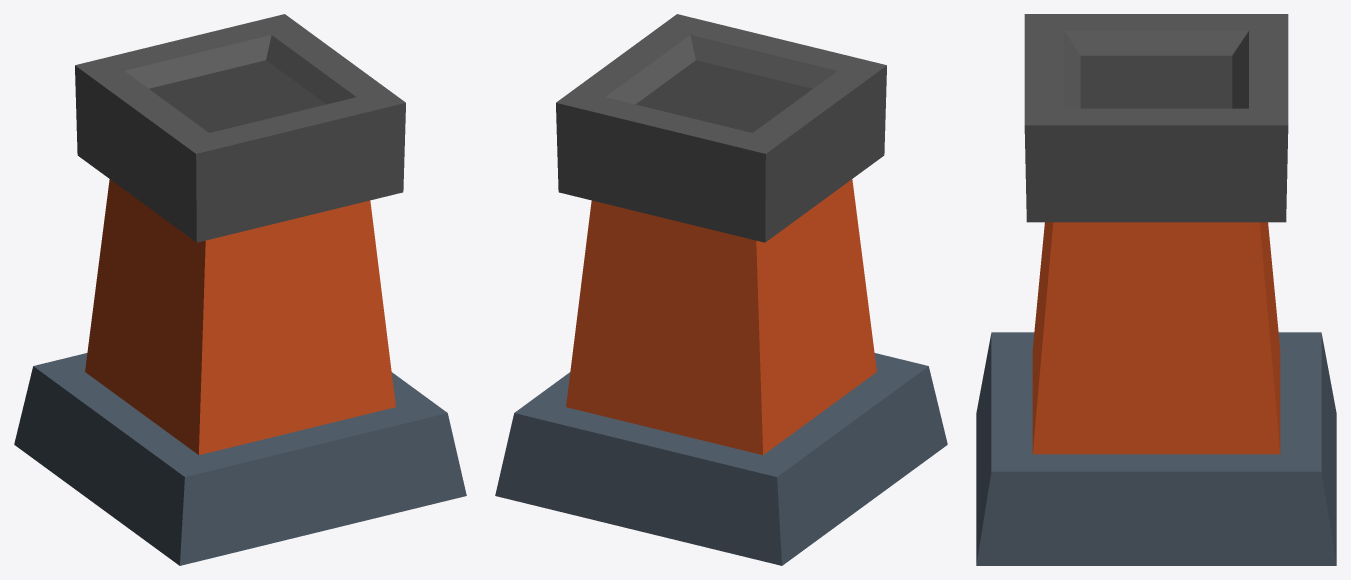
File: Chimney_3_B_2.glb
The picture shows the model from 3 angles, left to right: view 1: azimuth 30°, elevation 25°; view 2: azimuth 150°, elevation 25°; view 3: azimuth 270°, elevation 25°; orthographic projection. The views are drawn at different scales.
Parts seen in each view (by area): view 1: Chimney_3_B_2; view 2: Chimney_3_B_2; view 3: Chimney_3_B_2.
Part boxes in pixels (x1,y1,x2,y2): Chimney_3_B_2: (14, 14, 466, 565); Chimney_3_B_2: (495, 14, 947, 565); Chimney_3_B_2: (976, 14, 1336, 565).
Bounding box in the file's own units: 0.6394 × 0.8223 × 0.6394.
1 material, 1 textured.
